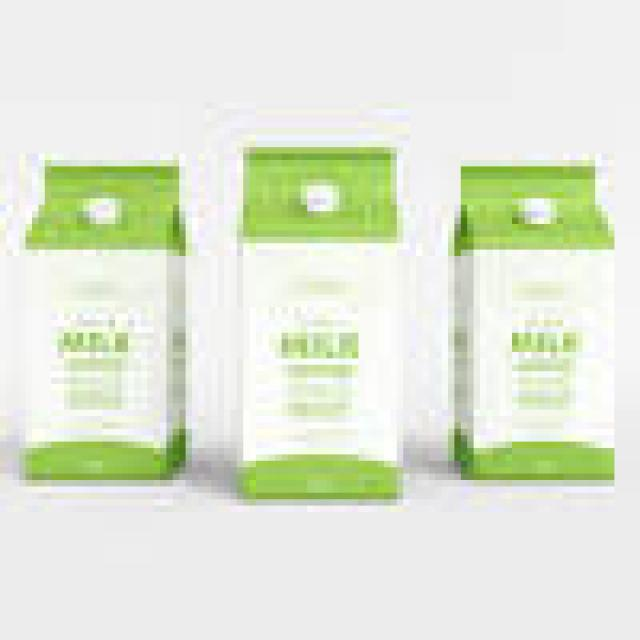non_white_jug: (224, 138, 435, 522), (7, 138, 198, 496), (445, 147, 630, 493)
